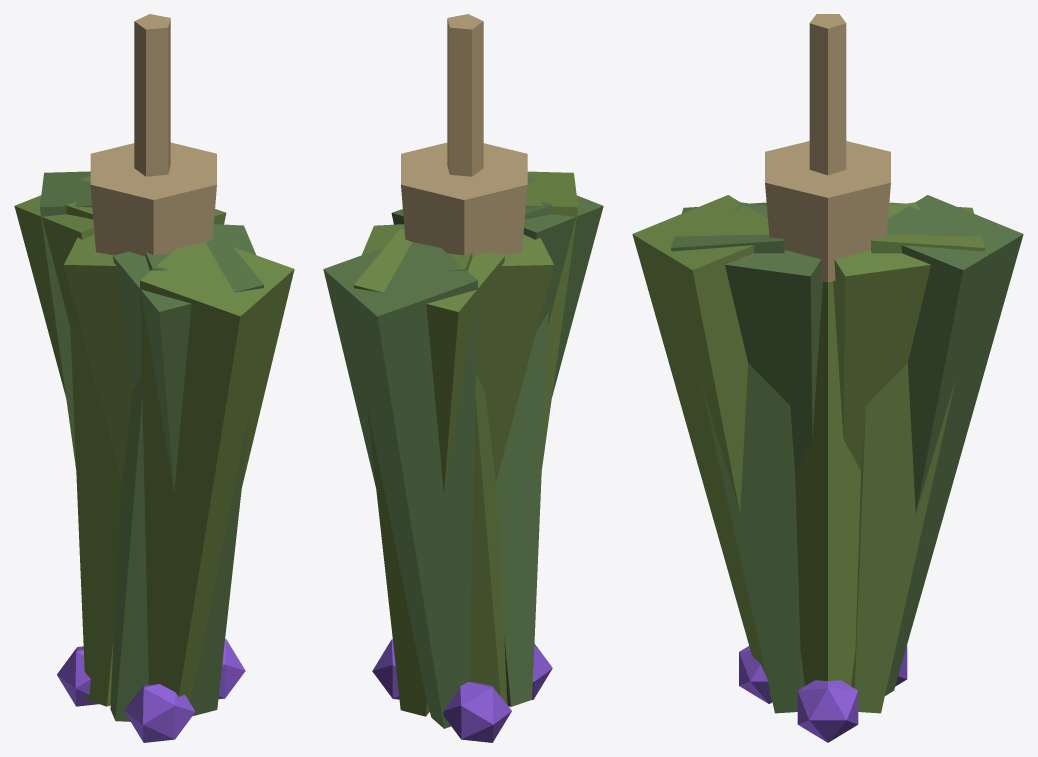
Rendered from herb_bundle.glb.
3 views of the same model, side by side, from view 1: azimuth 30°, elevation 25°; view 2: azimuth 150°, elevation 25°; view 3: azimuth 270°, elevation 25° (orthographic).
Visible parts, largest first — view 1: herb_bundle; view 2: herb_bundle; view 3: herb_bundle.
Boxes of the visible parts, box(x1,y1,x2,y2) form: herb_bundle: box(14, 14, 294, 742); herb_bundle: box(323, 14, 603, 742); herb_bundle: box(632, 14, 1023, 742).
Bounding box in the file's own units: 0.1228 × 0.4687 × 0.2419.
